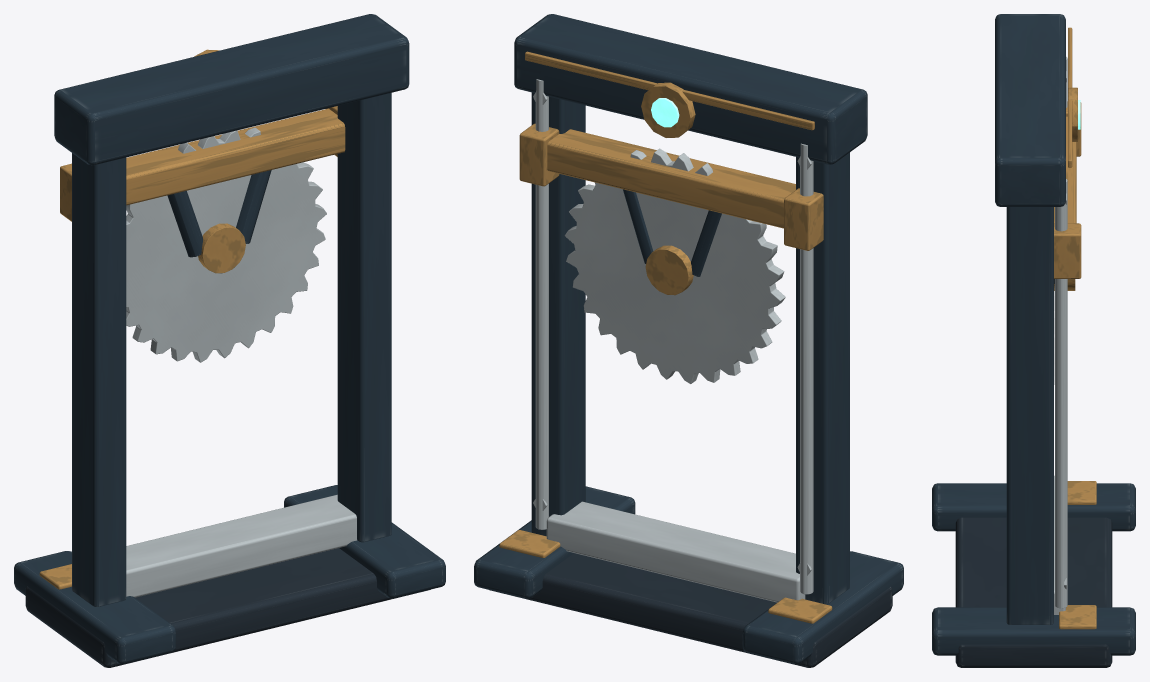
File: guillotine_saw.glb
3 renders of one model, left to right at view 1: azimuth 30°, elevation 25°; view 2: azimuth 150°, elevation 25°; view 3: azimuth 270°, elevation 25°, orthographic. The views are drawn at different scales.
Visible parts, largest first — view 1: guillotine_saw__crown, guillotine_saw__descending_saw, guillotine_saw__column_neg1, guillotine_saw__column_1, guillotine_saw__ground_foundation, guillotine_saw__anvil, guillotine_saw__carriage, guillotine_saw__foot_neg1, guillotine_saw__foot_1, guillotine_saw__descending_saw_hub, guillotine_saw__saw_fork_L, guillotine_saw__saw_fork_R (+1 smaller); view 2: guillotine_saw__descending_saw, guillotine_saw__crown, guillotine_saw__column_neg1, guillotine_saw__column_1, guillotine_saw__ground_foundation, guillotine_saw__anvil, guillotine_saw__carriage, guillotine_saw__foot_neg1, guillotine_saw__guide_neg1, guillotine_saw__guide_1, guillotine_saw__foot_1, guillotine_saw__crown_trim (+9 smaller); view 3: guillotine_saw__column_1, guillotine_saw__crown, guillotine_saw__ground_foundation, guillotine_saw__foot_1, guillotine_saw__foot_neg1, guillotine_saw__guide_1, guillotine_saw__runner_1, guillotine_saw__foot_trim_1, guillotine_saw__carriage, guillotine_saw__foot_trim_neg1, guillotine_saw__crown_trim, guillotine_saw__clock_seal.
Boxes of the visible parts, x1=… form: guillotine_saw__crown: x1=54, y1=14, x2=409, y2=165; guillotine_saw__descending_saw: x1=126, y1=127, x2=326, y2=362; guillotine_saw__column_neg1: x1=72, y1=153, x2=126, y2=606; guillotine_saw__column_1: x1=337, y1=93, x2=391, y2=542; guillotine_saw__ground_foundation: x1=25, y1=548, x2=430, y2=667; guillotine_saw__anvil: x1=126, y1=494, x2=356, y2=597; guillotine_saw__carriage: x1=126, y1=108, x2=345, y2=205; guillotine_saw__foot_neg1: x1=14, y1=551, x2=175, y2=664; guillotine_saw__foot_1: x1=284, y1=485, x2=445, y2=598; guillotine_saw__descending_saw_hub: x1=198, y1=223, x2=245, y2=273; guillotine_saw__saw_fork_L: x1=167, y1=191, x2=202, y2=257; guillotine_saw__saw_fork_R: x1=236, y1=170, x2=271, y2=243; guillotine_saw__descending_saw: x1=564, y1=148, x2=785, y2=383; guillotine_saw__crown: x1=514, y1=14, x2=867, y2=164; guillotine_saw__column_neg1: x1=796, y1=152, x2=849, y2=604; guillotine_saw__column_1: x1=531, y1=92, x2=585, y2=536; guillotine_saw__ground_foundation: x1=489, y1=553, x2=892, y2=667; guillotine_saw__anvil: x1=546, y1=501, x2=805, y2=602; guillotine_saw__carriage: x1=547, y1=129, x2=795, y2=228; guillotine_saw__foot_neg1: x1=742, y1=551, x2=903, y2=664; guillotine_saw__guide_neg1: x1=800, y1=143, x2=813, y2=594; guillotine_saw__guide_1: x1=535, y1=79, x2=548, y2=529; guillotine_saw__foot_1: x1=474, y1=486, x2=635, y2=598; guillotine_saw__crown_trim: x1=525, y1=51, x2=814, y2=130; guillotine_saw__column_1: x1=1006, y1=207, x2=1053, y2=624; guillotine_saw__crown: x1=995, y1=14, x2=1065, y2=206; guillotine_saw__ground_foundation: x1=955, y1=517, x2=1112, y2=667; guillotine_saw__foot_1: x1=932, y1=607, x2=1135, y2=655; guillotine_saw__foot_neg1: x1=932, y1=483, x2=1135, y2=531; guillotine_saw__guide_1: x1=1055, y1=179, x2=1067, y2=608; guillotine_saw__runner_1: x1=1054, y1=223, x2=1081, y2=278; guillotine_saw__foot_trim_1: x1=1059, y1=605, x2=1096, y2=629; guillotine_saw__carriage: x1=1054, y1=116, x2=1076, y2=223; guillotine_saw__foot_trim_neg1: x1=1067, y1=481, x2=1096, y2=504; guillotine_saw__crown_trim: x1=1068, y1=27, x2=1072, y2=167; guillotine_saw__clock_seal: x1=1068, y1=87, x2=1077, y2=141.
Size of the model in its own units: 1.52 by 2.37 by 0.86.
Materials: 2 (2 with a texture image).
